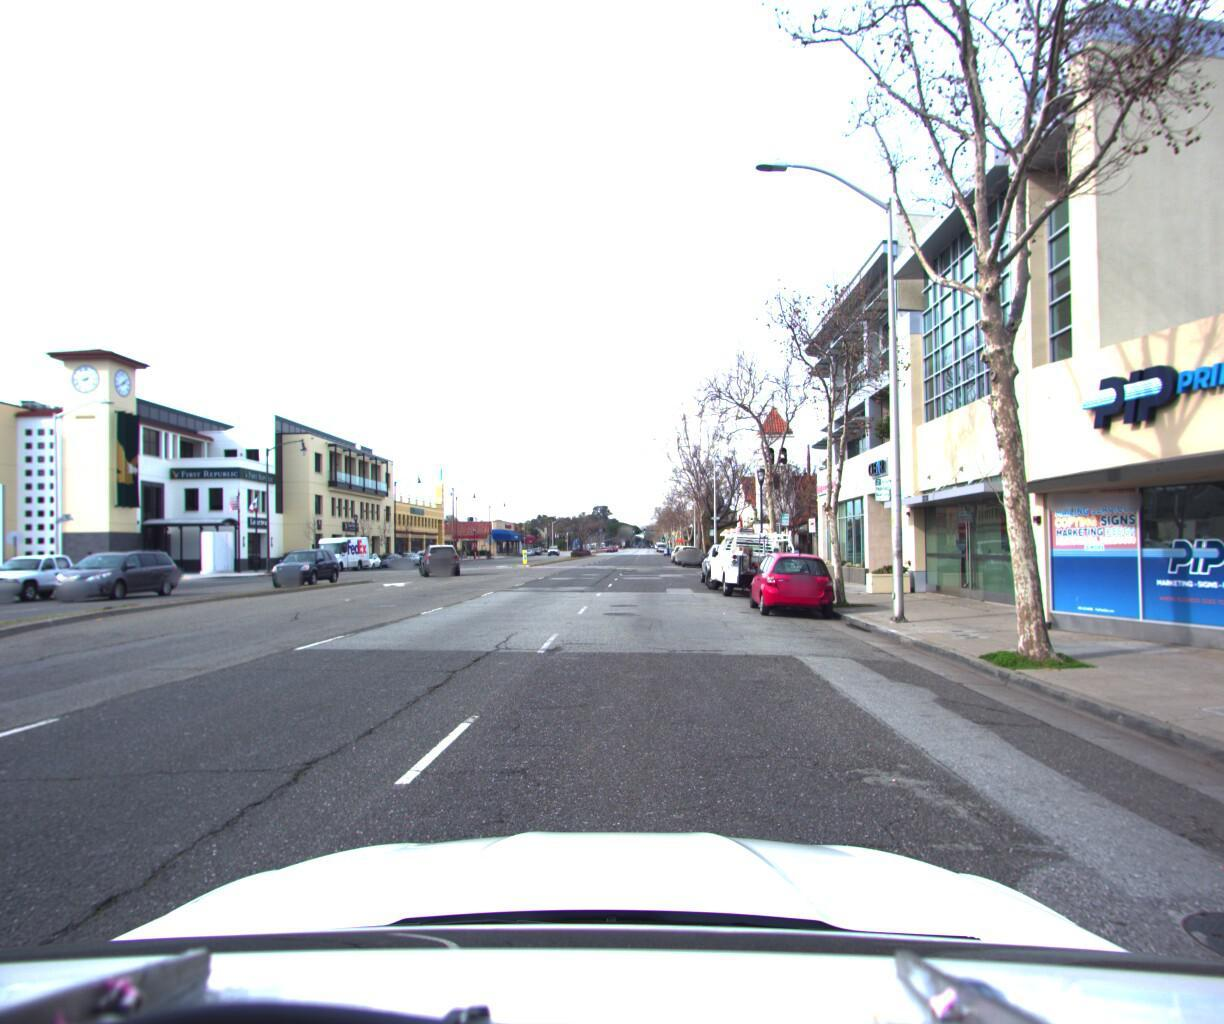car: (703, 520, 802, 599), (741, 545, 843, 618), (49, 548, 180, 600), (0, 547, 100, 598), (696, 537, 756, 586), (270, 542, 343, 581), (416, 541, 457, 575), (673, 539, 699, 561), (353, 549, 383, 567), (679, 542, 705, 563)
truck: (308, 532, 371, 571)
